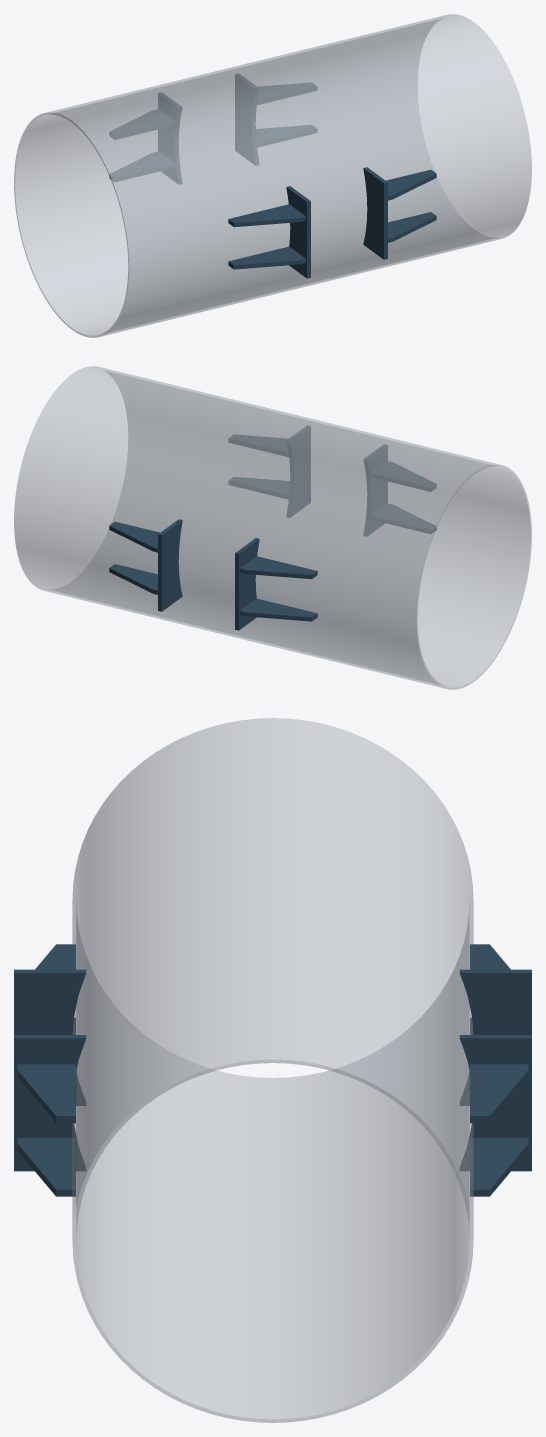
File: TS-660.00.00-17-opora-dn820.glb
3 renders of one model, top to bottom at view 1: azimuth 30°, elevation 25°; view 2: azimuth 150°, elevation 25°; view 3: azimuth 270°, elevation 25°, orthographic. The views are drawn at different scales.
Parts seen in each view (by area): view 1: truba, upor_1, upor_7, upor_4, upor_10, upor_5, upor_6, upor_11, upor_12, upor_8, upor_2, upor_9 (+1 smaller); view 2: truba, upor_7, upor_1, upor_10, upor_4, upor_12, upor_11, upor_6, upor_5, upor_3, upor_9, upor_2 (+1 smaller); view 3: truba, upor_1, upor_7, upor_4, upor_10, upor_2, upor_9, upor_3, upor_8, upor_5, upor_12.
Boxes of the visible parts, x1,y1,x2,y2 form: truba: (14, 14, 531, 337); upor_1: (363, 167, 387, 259); upor_7: (235, 74, 259, 165); upor_4: (286, 186, 310, 278); upor_10: (158, 92, 182, 184); upor_5: (228, 204, 305, 227); upor_6: (228, 246, 305, 269); upor_11: (109, 151, 175, 181); upor_12: (109, 109, 175, 139); upor_8: (256, 125, 317, 146); upor_2: (386, 169, 436, 200); upor_9: (257, 82, 317, 104); truba: (14, 366, 531, 689); upor_7: (158, 519, 182, 611); upor_1: (286, 426, 310, 517); upor_10: (235, 538, 259, 630); upor_4: (363, 444, 387, 536); upor_12: (240, 556, 317, 579); upor_11: (240, 598, 317, 621); upor_6: (370, 503, 436, 533); upor_5: (370, 461, 436, 491); upor_3: (228, 477, 289, 498); upor_9: (109, 521, 159, 552); upor_2: (228, 434, 288, 456); truba: (72, 718, 473, 1422); upor_1: (14, 1035, 86, 1171); upor_7: (459, 1035, 531, 1171); upor_4: (14, 969, 86, 1105); upor_10: (459, 969, 531, 1105); upor_2: (17, 1064, 75, 1123); upor_9: (470, 1064, 528, 1123); upor_3: (17, 1138, 75, 1196); upor_8: (470, 1138, 528, 1196); upor_5: (35, 944, 75, 969); upor_12: (470, 944, 510, 969).
Size of the model in its own units: 1652 by 820 by 1059.
